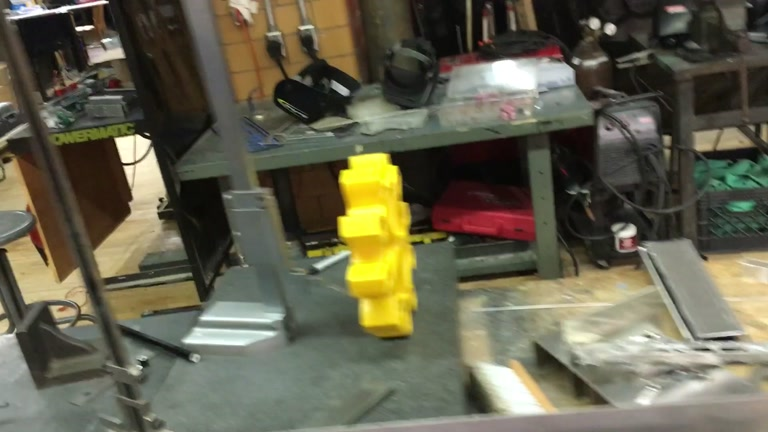gear: (335, 150, 419, 342)
